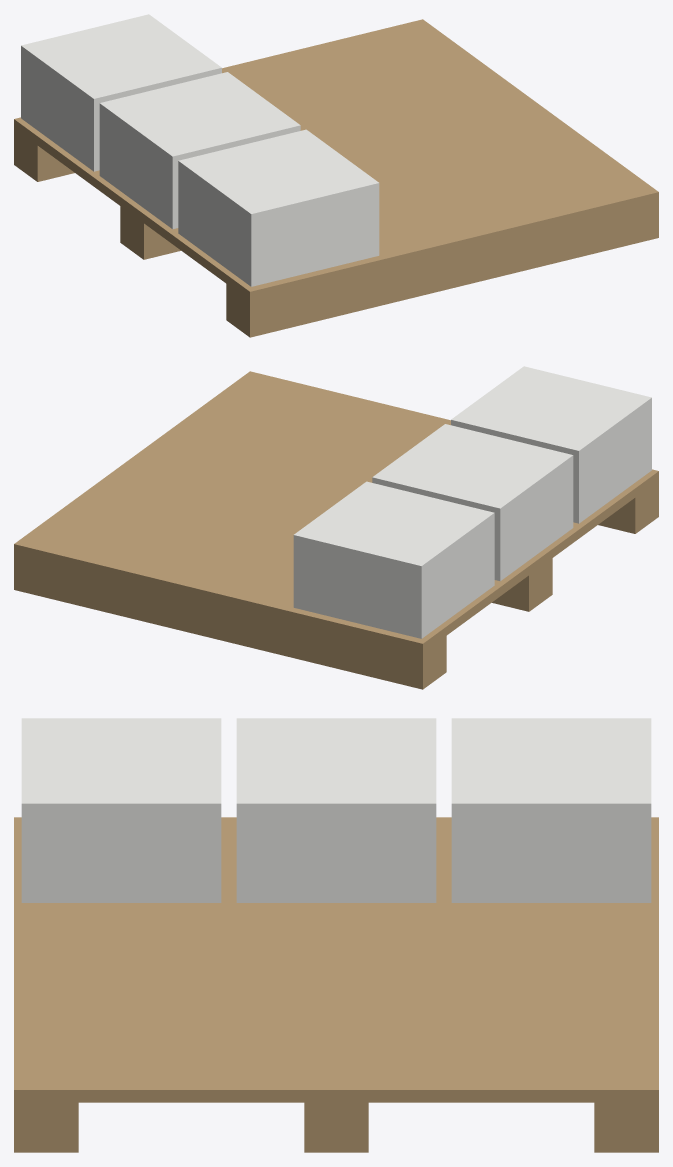
File: pallet_mp_03.glb
3 views of the same model, one above another, from view 1: azimuth 30°, elevation 25°; view 2: azimuth 150°, elevation 25°; view 3: azimuth 270°, elevation 25° (orthographic). The views are drawn at different scales.
Visible parts, largest first — view 1: PalletMP; view 2: PalletMP; view 3: PalletMP.
Part boxes in pixels (left/top/right/bottom): PalletMP: left=14, top=14, right=658, bottom=337; PalletMP: left=14, top=366, right=658, bottom=689; PalletMP: left=14, top=718, right=658, bottom=1152.
Bounding box in the file's own units: 1 × 0.2814 × 1.
